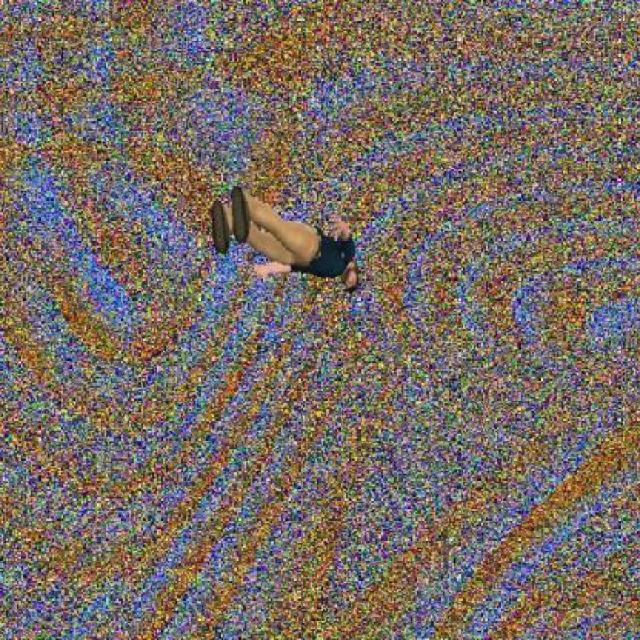Person: (208, 182, 362, 295)
